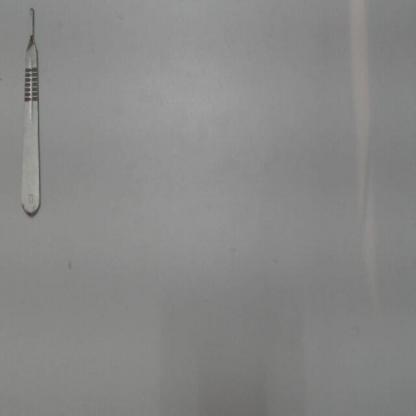No.3 BP Handle: (15, 3, 47, 227)
